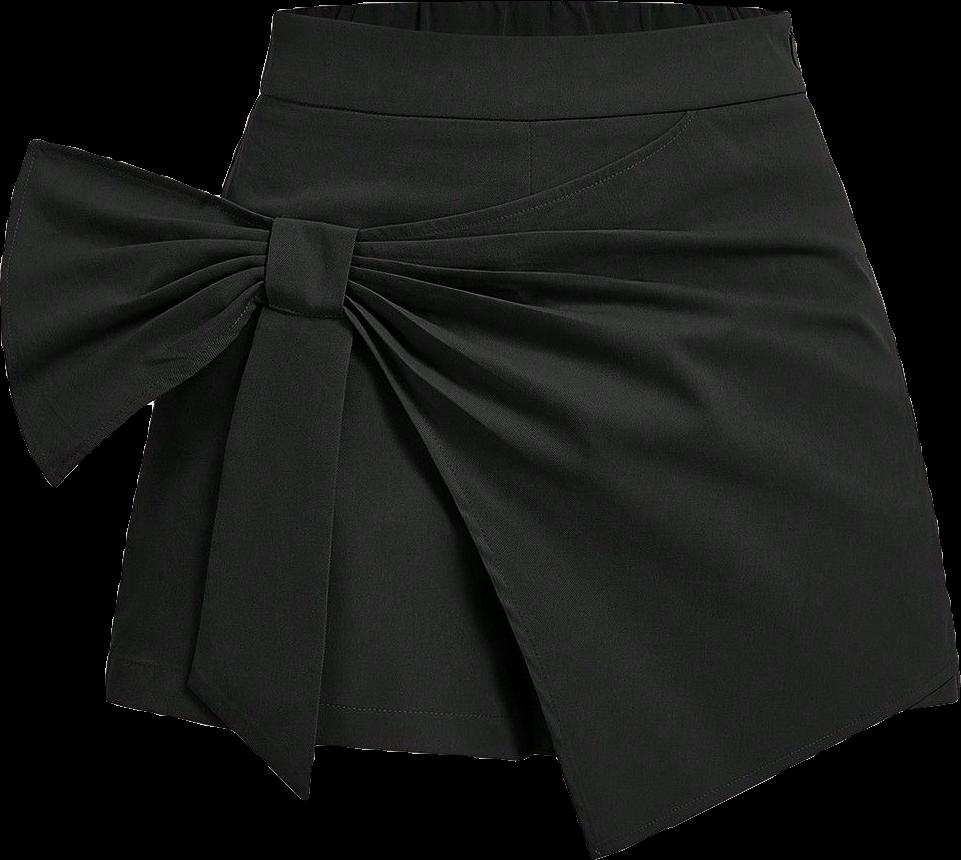Hemline: (52, 309, 960, 859), (107, 693, 550, 760)
Waistline: (213, 111, 680, 233), (256, 81, 803, 120), (277, 6, 790, 44)
